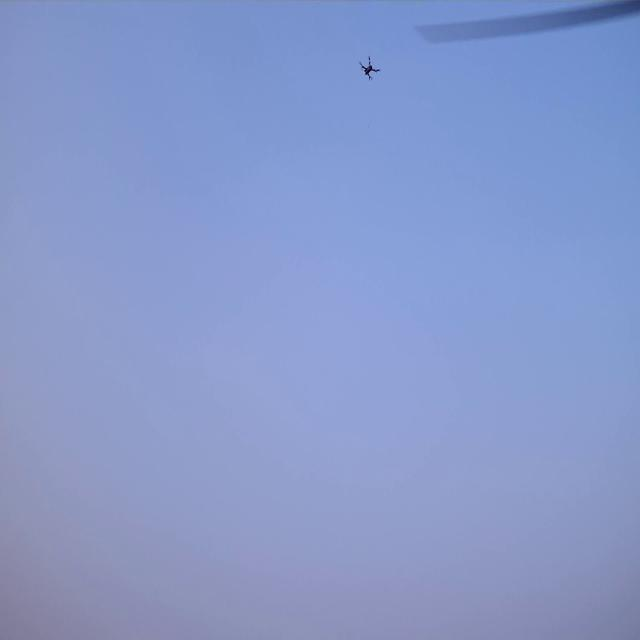UAV: (362, 58, 378, 80)
